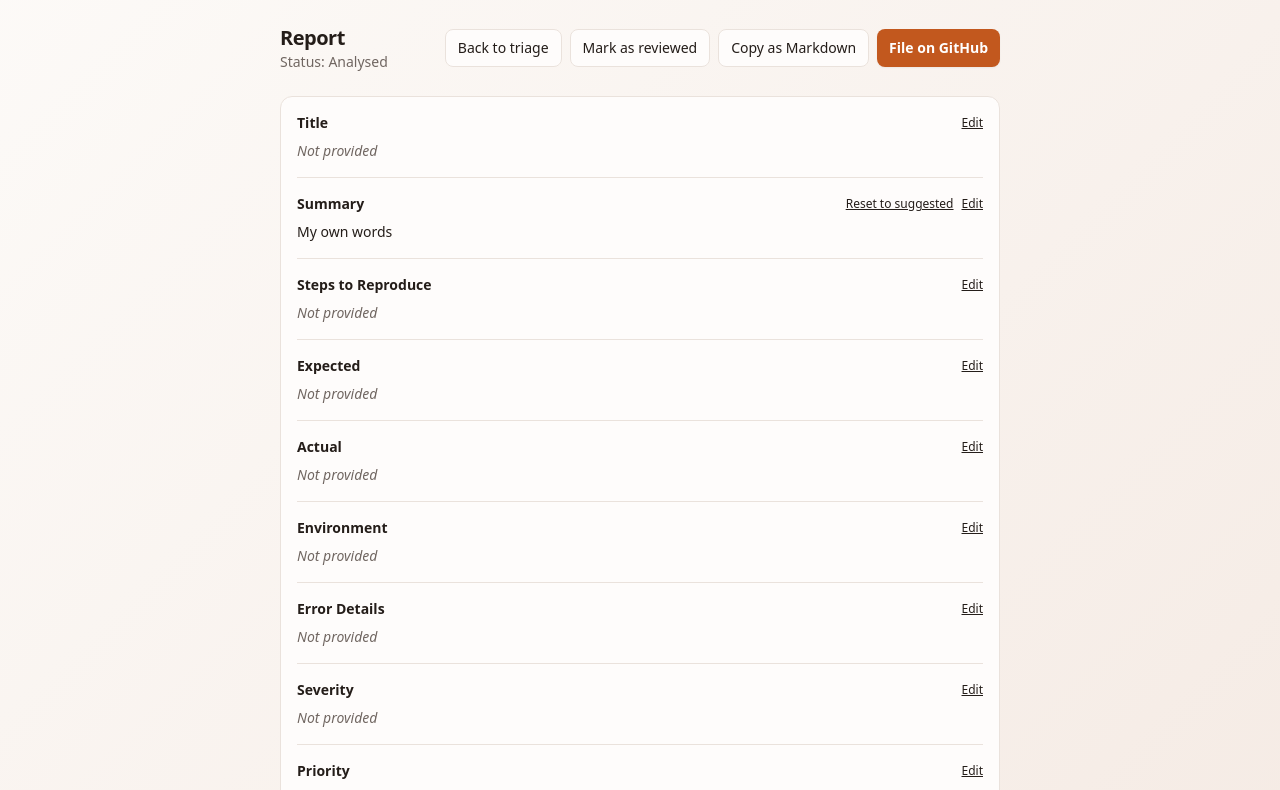
Scenario: GeneratedReport › resets an edited section to the suggestion
Click the button with aria-label "Reset Summary to suggested": (900, 204) x1=846 y1=196 x2=954 y2=212
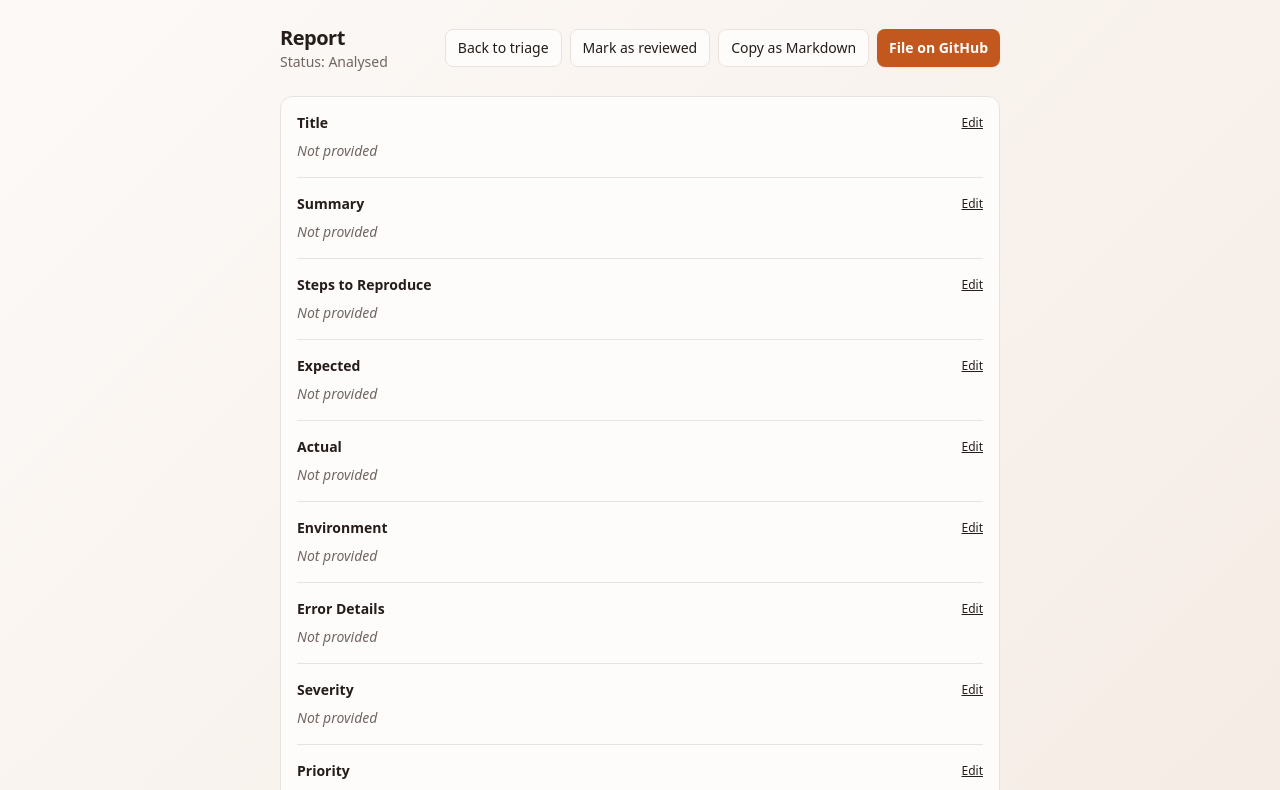
Now the text "My own words" is gone
